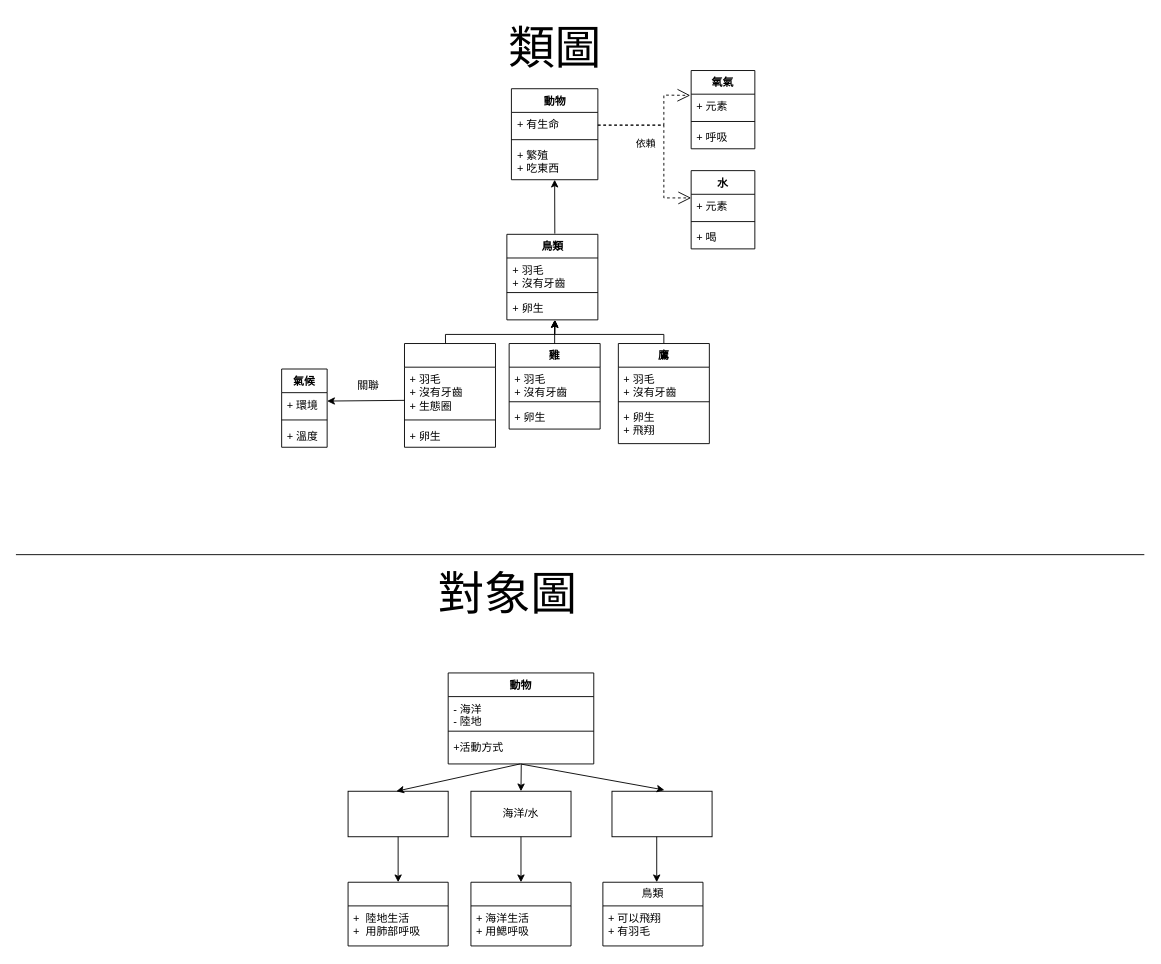
Image size: 1161x964. Some labels were removed from this diagram. Here are the shapes that lost their labels. From the top down, the box of each, then its label:
(404, 343, 495, 447): 企鵝
(347, 790, 448, 837): 陸地
(611, 790, 712, 837): 飛翔
(347, 881, 448, 946): 哺乳類
(470, 881, 571, 946): 魚類
